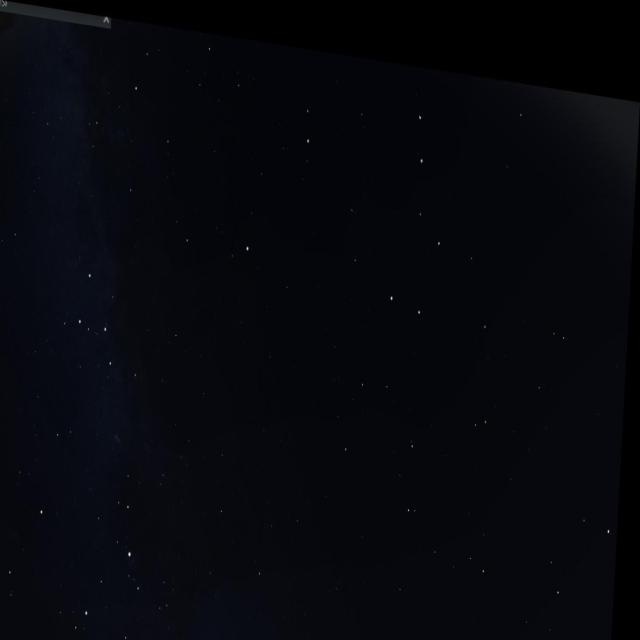ursa_major: (377, 49, 473, 324)
